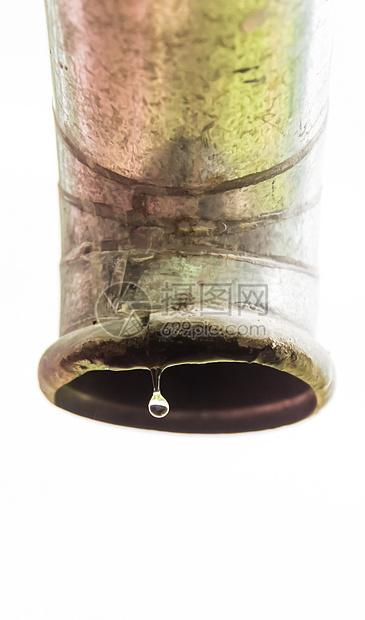water drop: (148, 370, 168, 422)
